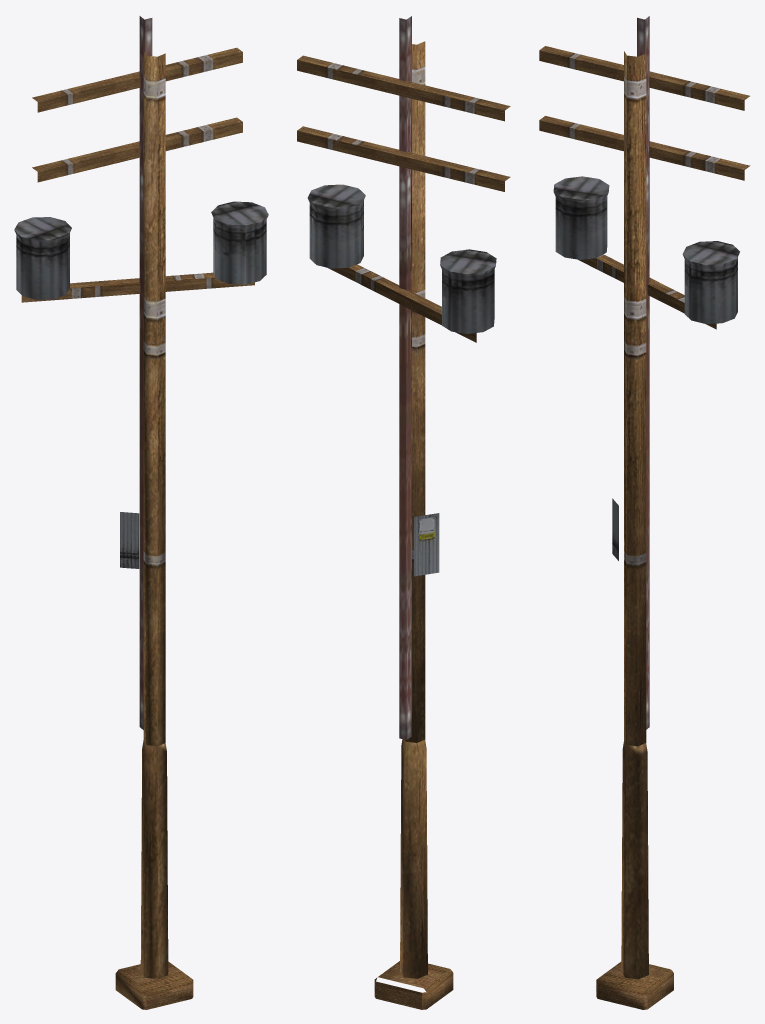
Rendered from Prop_Pole01_lod1.glb.
3 renders of one model, left to right at view 1: azimuth 30°, elevation 25°; view 2: azimuth 150°, elevation 25°; view 3: azimuth 330°, elevation 25°, orthographic.
Parts seen in each view (by area): view 1: xinshou_pole_01_lod0; view 2: xinshou_pole_01_lod0; view 3: xinshou_pole_01_lod0.
Part boxes in pixels (x1=…): xinshou_pole_01_lod0: x1=14, y1=16, x2=268, y2=1009; xinshou_pole_01_lod0: x1=297, y1=16, x2=510, y2=1009; xinshou_pole_01_lod0: x1=539, y1=16, x2=750, y2=1009.
Bounding box in the file's own units: 4.96 × 21.59 × 2.48.
Materials: 1 (1 with a texture image).
